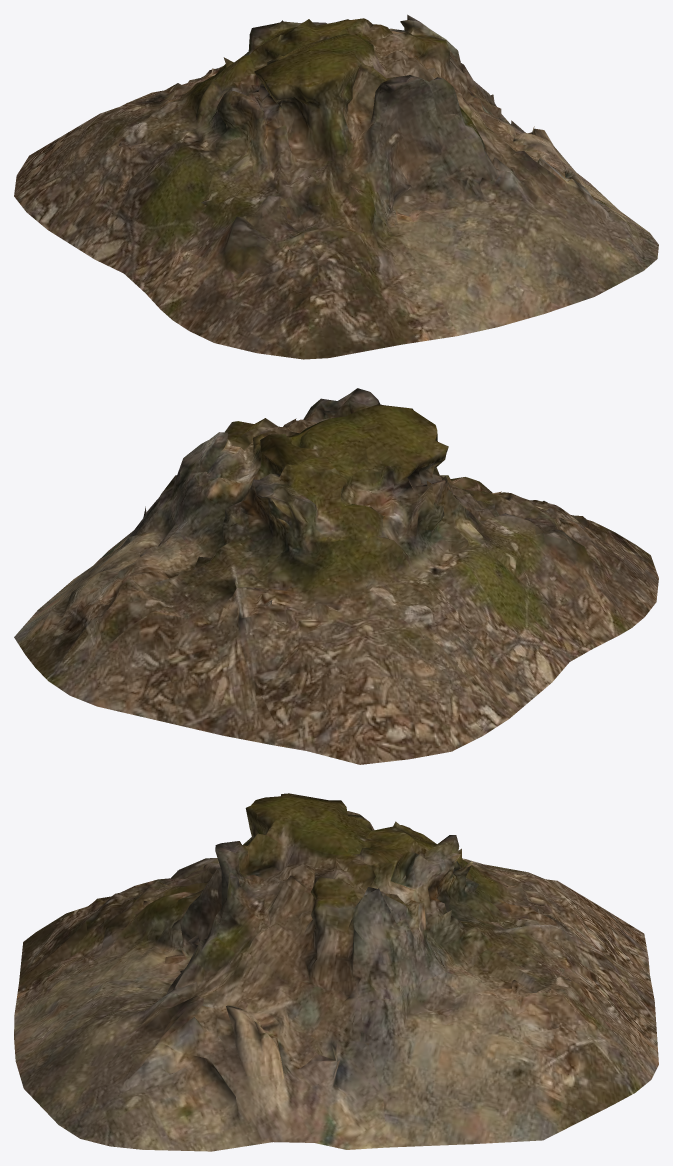
The model's file is tree-stump.glb.
The picture shows the model from 3 angles, top to bottom: view 1: azimuth 30°, elevation 25°; view 2: azimuth 150°, elevation 25°; view 3: azimuth 270°, elevation 25°; orthographic projection. The views are drawn at different scales.
Parts seen in each view (by area): view 1: tree_stump_01; view 2: tree_stump_01; view 3: tree_stump_01.
Boxes of the visible parts, left/top/right/bottom form: tree_stump_01: left=14, top=14, right=658, bottom=359; tree_stump_01: left=14, top=388, right=658, bottom=764; tree_stump_01: left=14, top=793, right=658, bottom=1151.
Bounding box in the file's own units: 1.43 × 0.571 × 1.59.
Materials: 1 (1 with a texture image).
